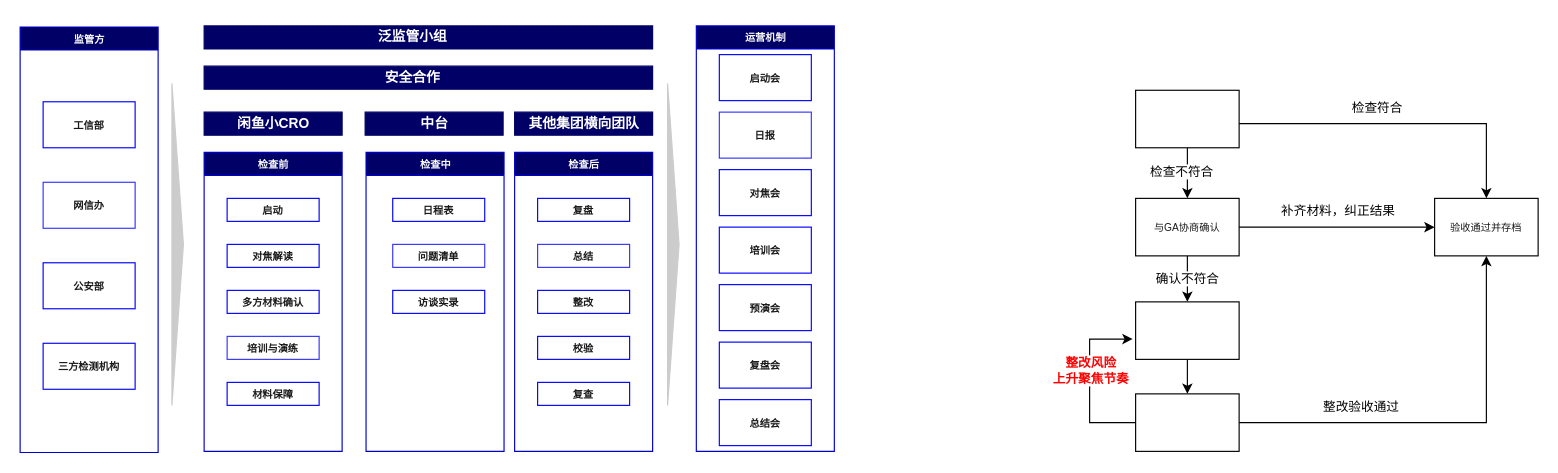
Image size: 1558x473. Some labels were removed from this diagram. Each missing label, with the centre of its shape:
"整改项" belongs at [1186,330].
"核查结果" belongs at [1186,118].
"确认方案、责任人、验收期与标准" belongs at [1186,422].
